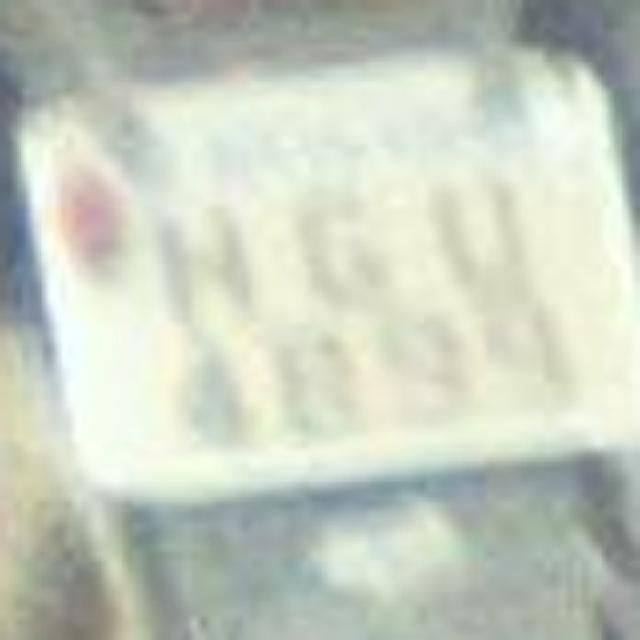4: (151, 320, 264, 460)
6: (468, 260, 584, 432)
8: (264, 292, 384, 460)
N: (156, 180, 269, 335)
O: (416, 149, 532, 296)
